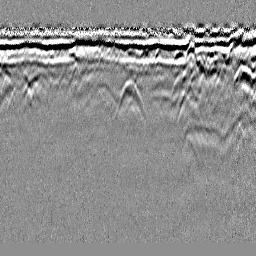cavity: (114, 79, 146, 121)
